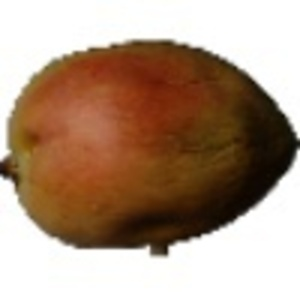mamão: (9, 31, 296, 248)
